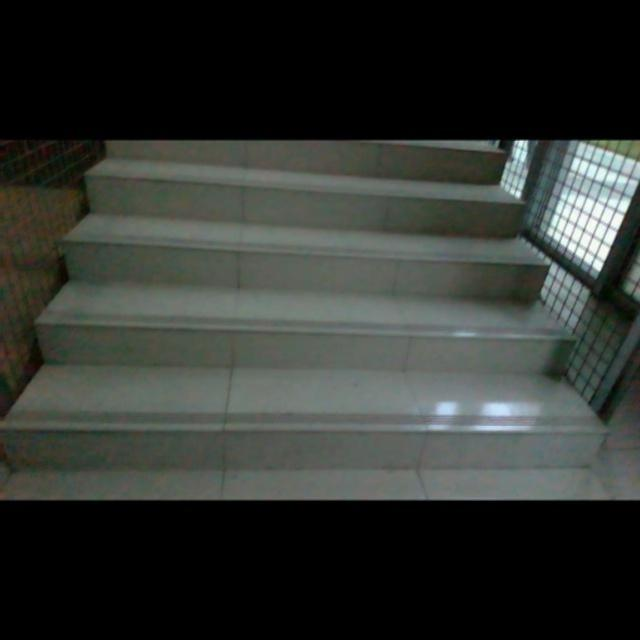stair: (30, 146, 600, 478)
